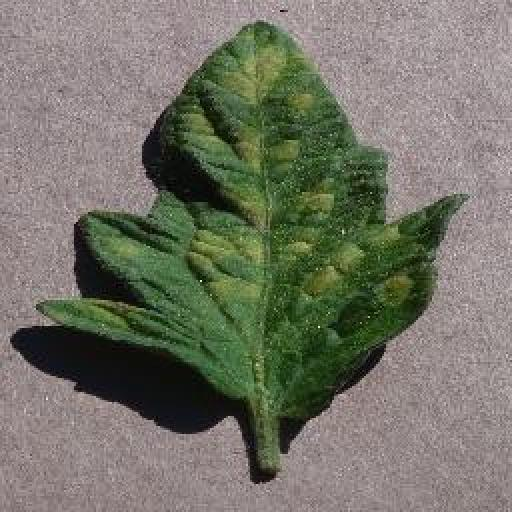Leaf Mold: (34, 18, 468, 418)
